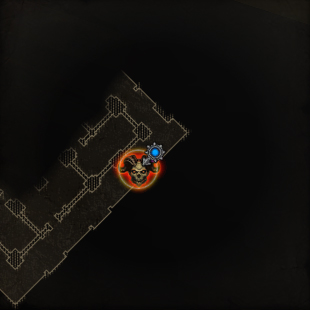Guardian: (118, 155, 161, 188)
